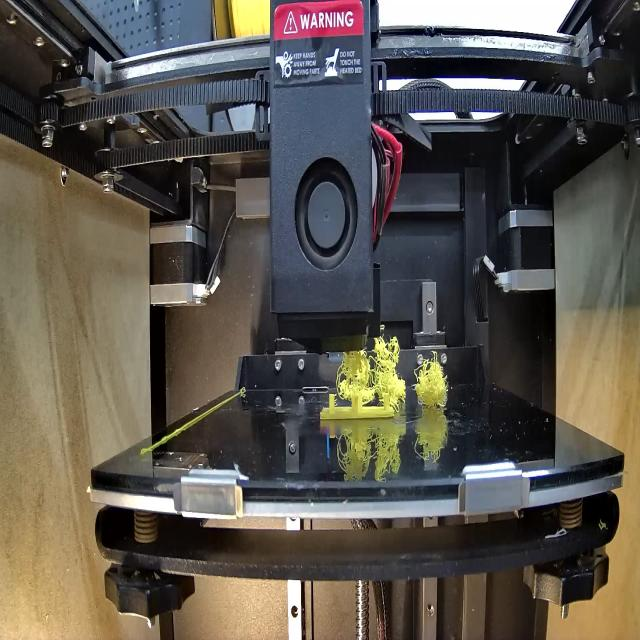spaghetti: (338, 334, 405, 399), (416, 350, 450, 415)
